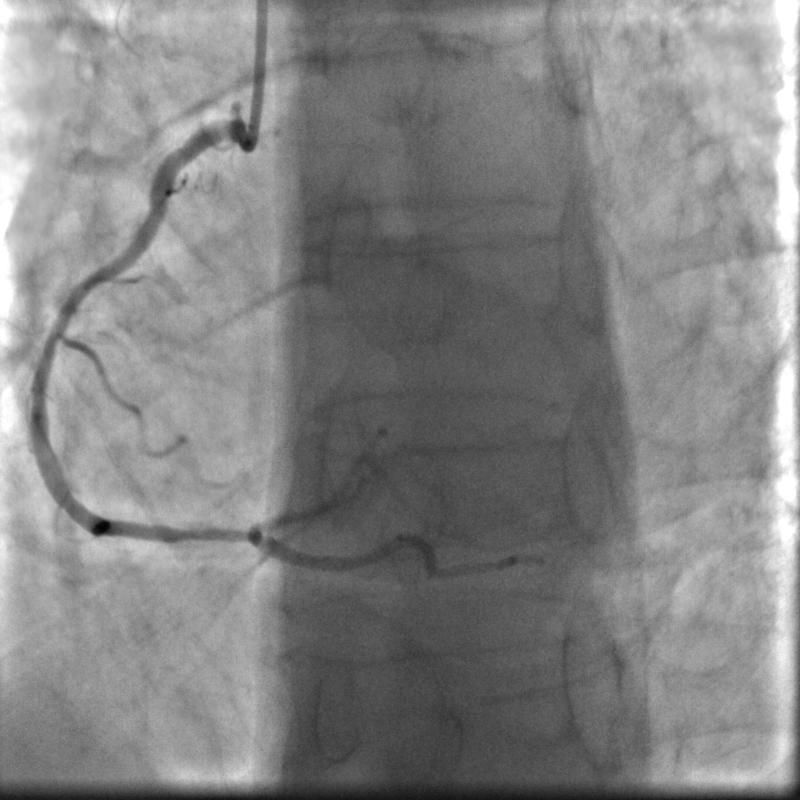Stenosis: (123, 501, 246, 557)
